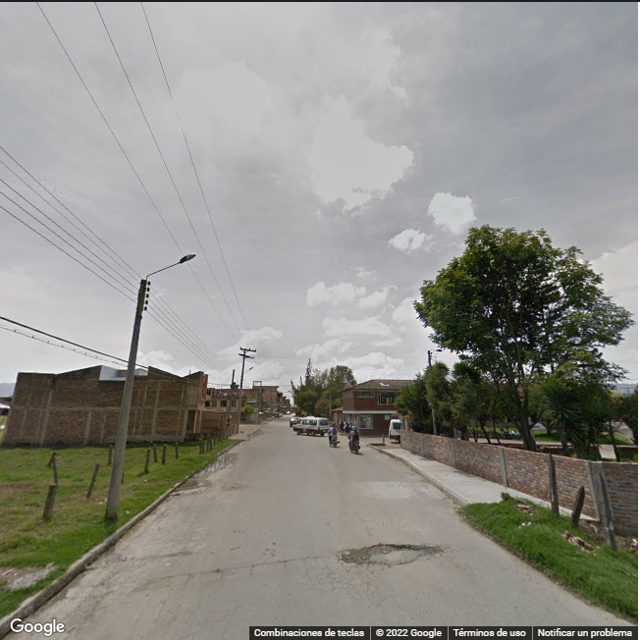D10: (147, 554, 313, 585)
D20: (307, 568, 383, 598)
D40: (359, 537, 428, 570)
